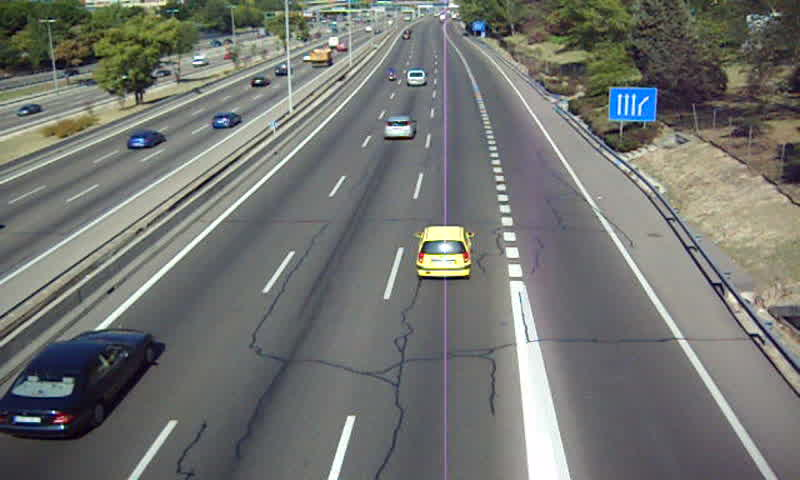car: (2, 330, 151, 440), (413, 225, 474, 281), (383, 115, 417, 141), (406, 70, 425, 87)
motorcycle: (386, 68, 396, 81)
